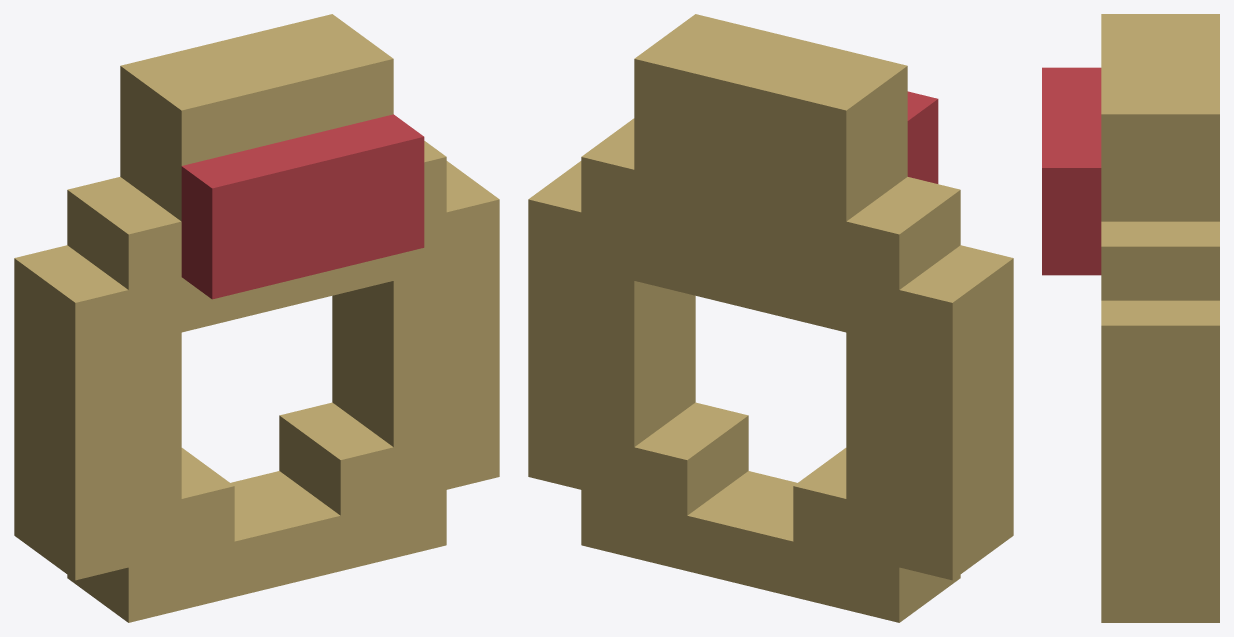
The model's file is artifact_kings_sigil_lod1.glb.
The picture shows the model from 3 angles, left to right: view 1: azimuth 30°, elevation 25°; view 2: azimuth 150°, elevation 25°; view 3: azimuth 270°, elevation 25°; orthographic projection. The views are drawn at different scales.
Parts seen in each view (by area): view 1: artifact_kings_sigil_lod1; view 2: artifact_kings_sigil_lod1; view 3: artifact_kings_sigil_lod1.
Boxes of the visible parts, x1,y1,x2,y2 form: artifact_kings_sigil_lod1: [14, 14, 499, 622]; artifact_kings_sigil_lod1: [528, 14, 1013, 622]; artifact_kings_sigil_lod1: [1042, 14, 1219, 622].
Size of the model in its own units: 0.192 by 0.216 by 0.072.
